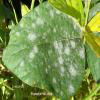Squash Powdery mildew leaf: (2, 1, 86, 97)
